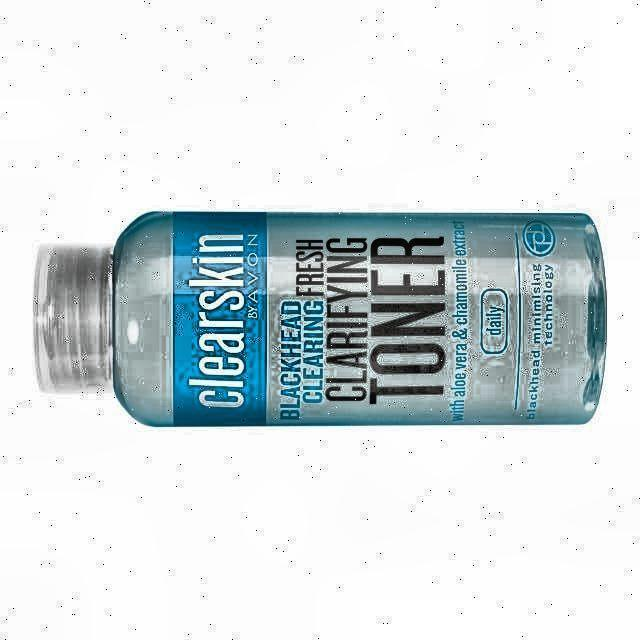plastic: (35, 212, 606, 426)
